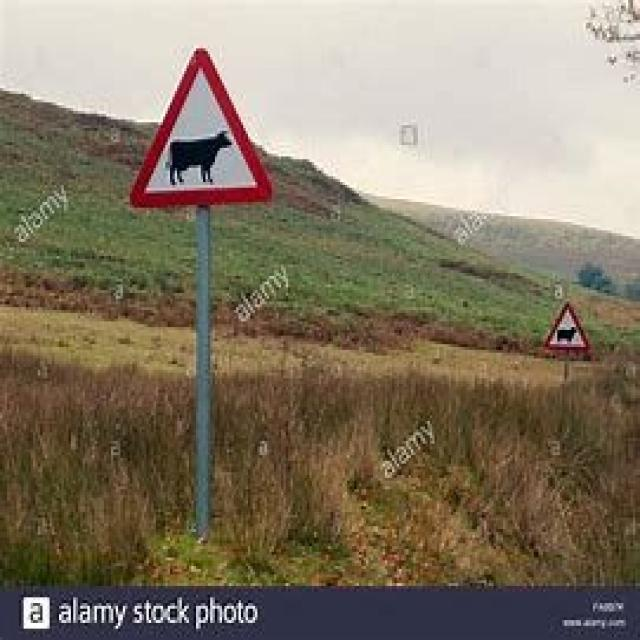CATTLE: (126, 46, 274, 208)
